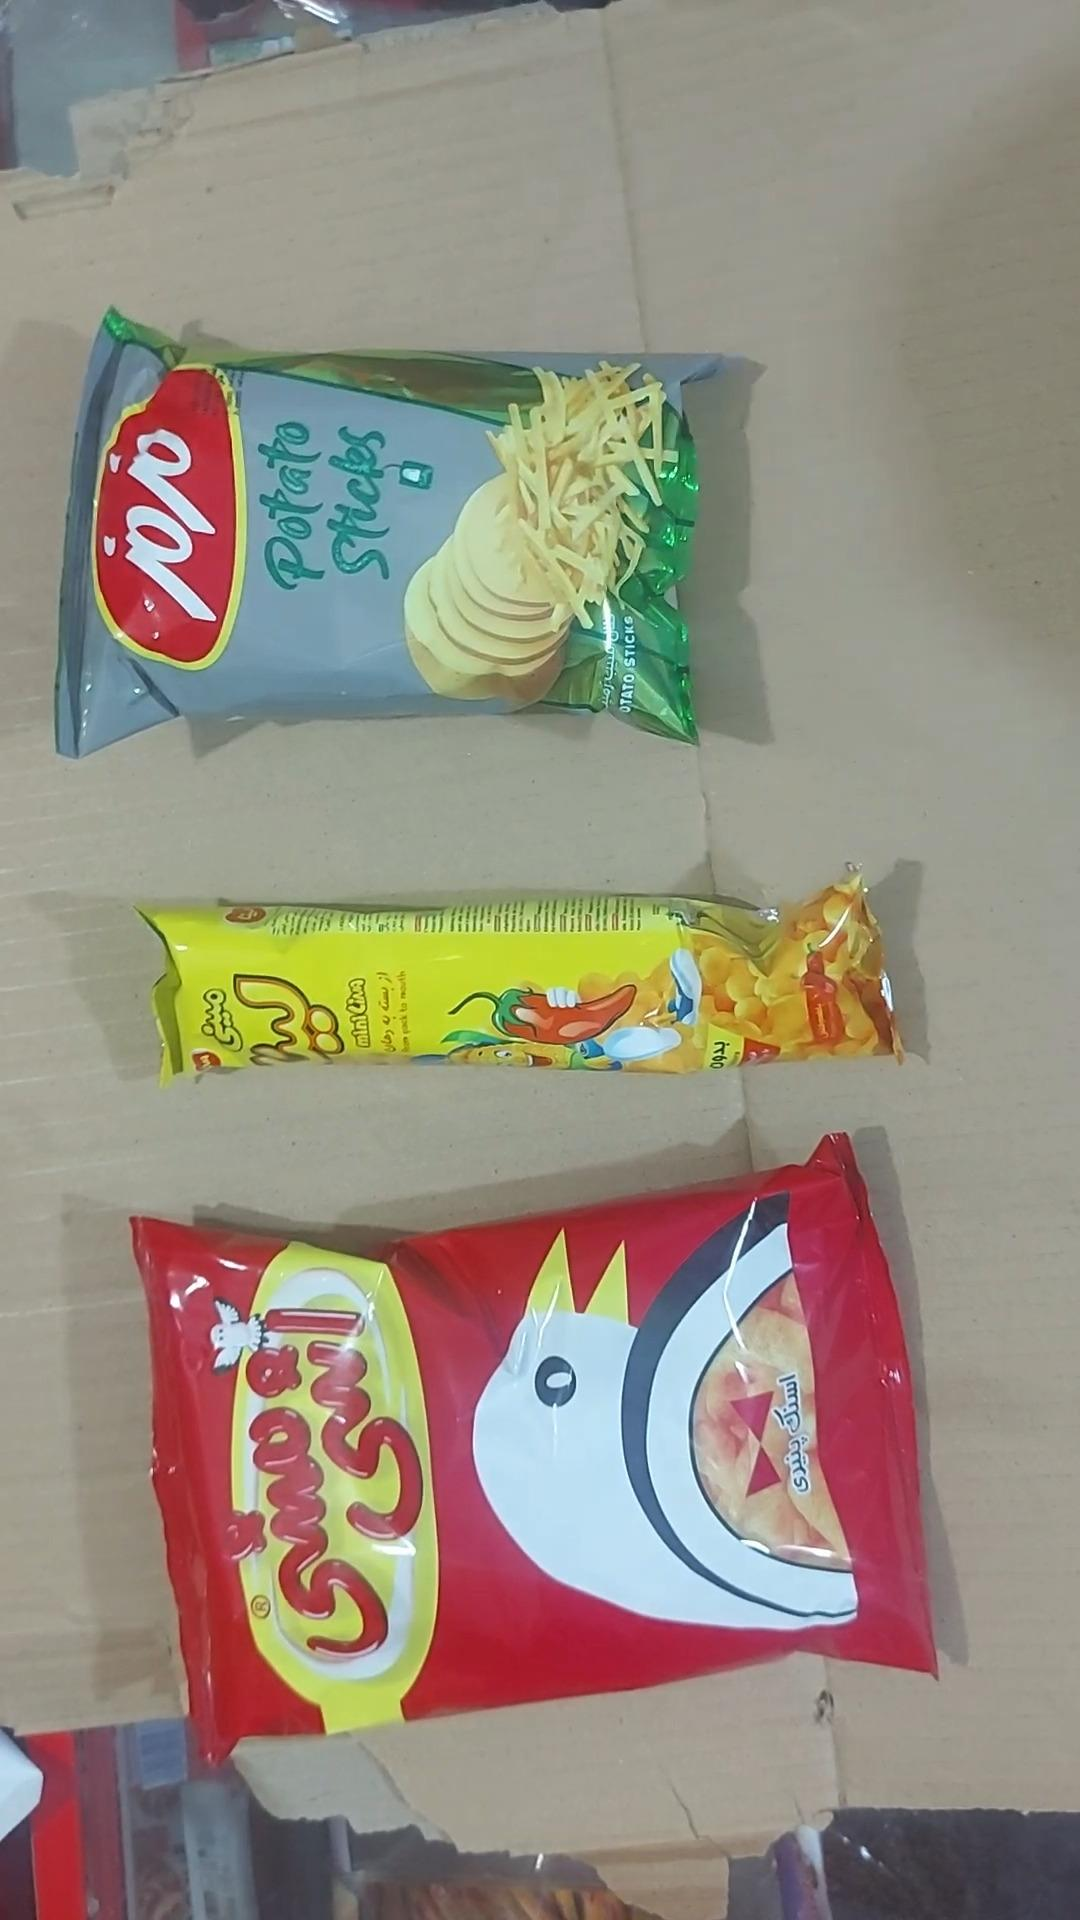Ashi Mashi snacks: (133, 1137, 935, 1758)
Maz Maz potato sticks: (55, 310, 727, 757)
Mini Lina: (141, 873, 902, 1080)
